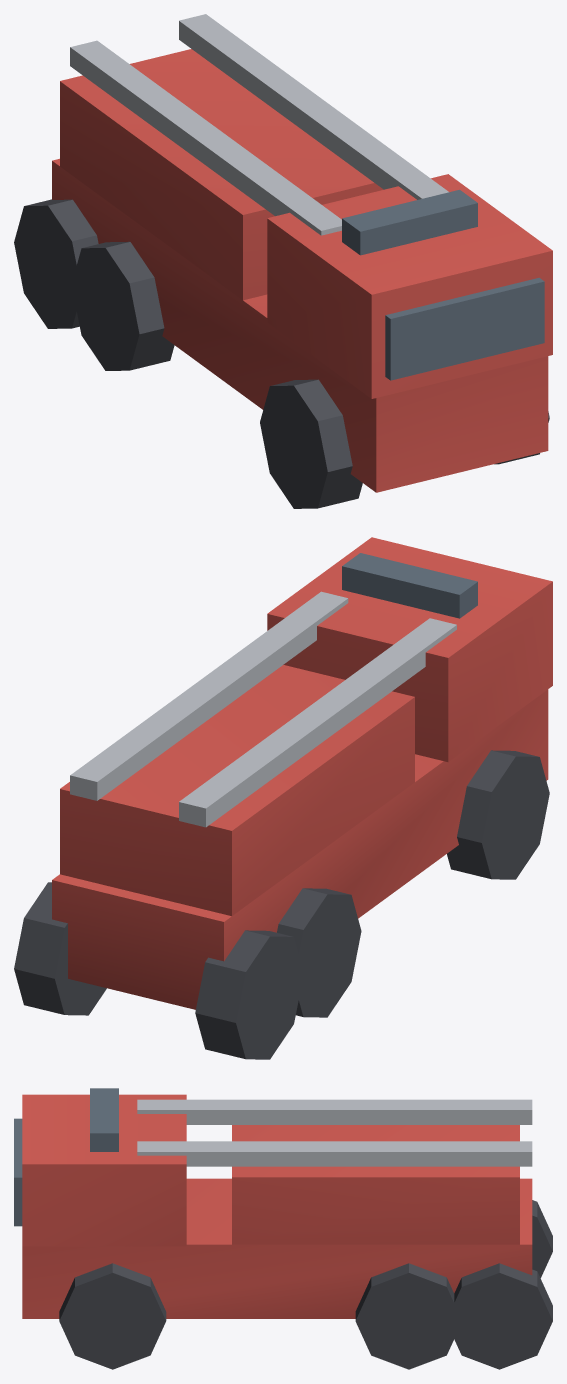
Rendered from veh_fire_truck.glb.
3 renders of one model, top to bottom at view 1: azimuth 30°, elevation 25°; view 2: azimuth 150°, elevation 25°; view 3: azimuth 270°, elevation 25°, orthographic. The views are drawn at different scales.
Parts seen in each view (by area): view 1: veh_fire_truck; view 2: veh_fire_truck; view 3: veh_fire_truck.
Boxes of the visible parts, box(x1,y1,x2,y2) form: veh_fire_truck: box(14, 14, 552, 508); veh_fire_truck: box(14, 537, 552, 1059); veh_fire_truck: box(14, 1088, 552, 1369).
Bounding box in the file's own units: 0.49 × 0.58 × 1.31.
